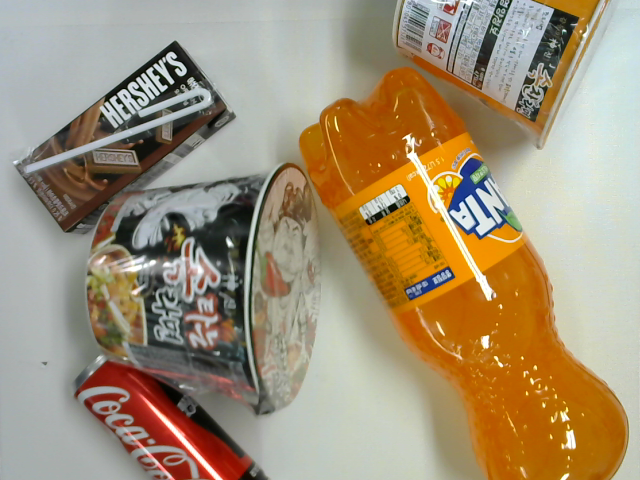Coca_Cola_Zero_Can_250ml: (73, 348, 273, 480)
HeJangsock: (82, 160, 324, 421)
Hejangchan: (391, 1, 619, 157)
Hush_Choco_Drink: (14, 36, 241, 241)
Hwanta_Orange_1.5L: (296, 65, 632, 479)
